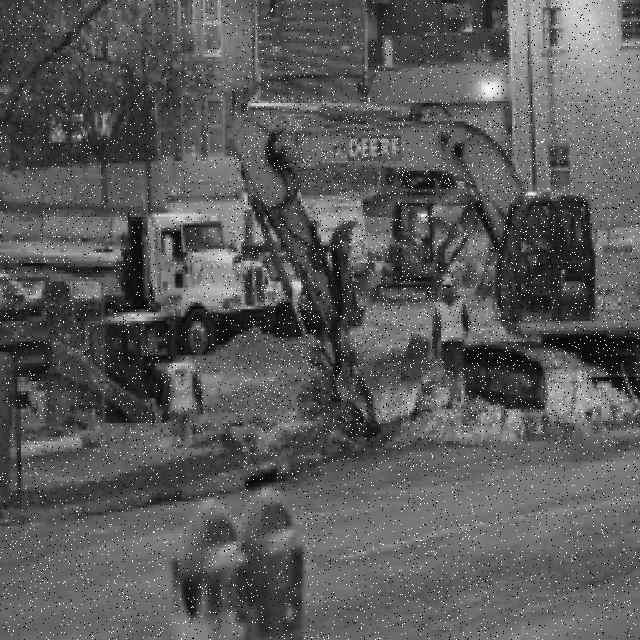Construction Equipment: (233, 97, 640, 426)
